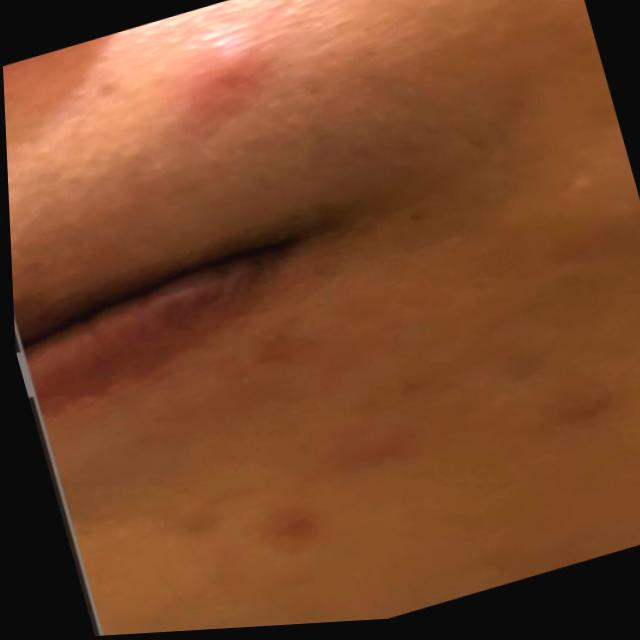papule: (172, 29, 297, 138)
